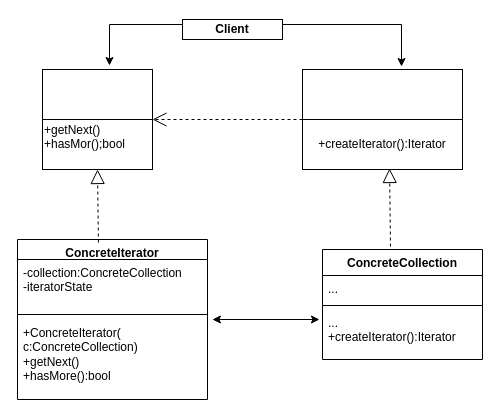
The diagram is 500 pixels wide and 420 high, and some of its shapes have lost their labels. Here are the shapes that lost their labels. From the top down, the box of each, then its label:
(42, 68, 152, 120): «interface» Iterator
(302, 68, 462, 120): «interface» IterableCollection
